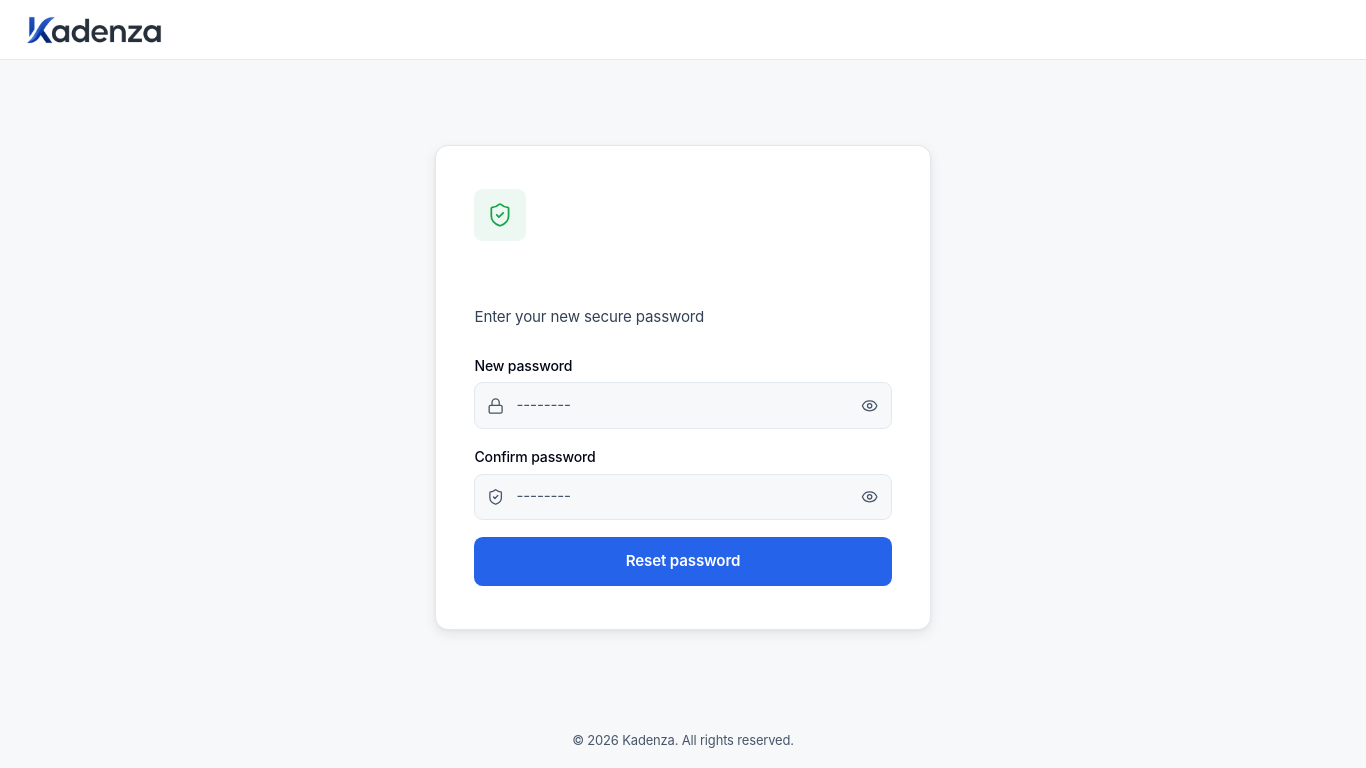
authentication pages › resets a password with a valid token
Step 1. Type "secret12" into the password field with placeholder "--------" below "New password" → (683, 406), box [474,382,892,429]
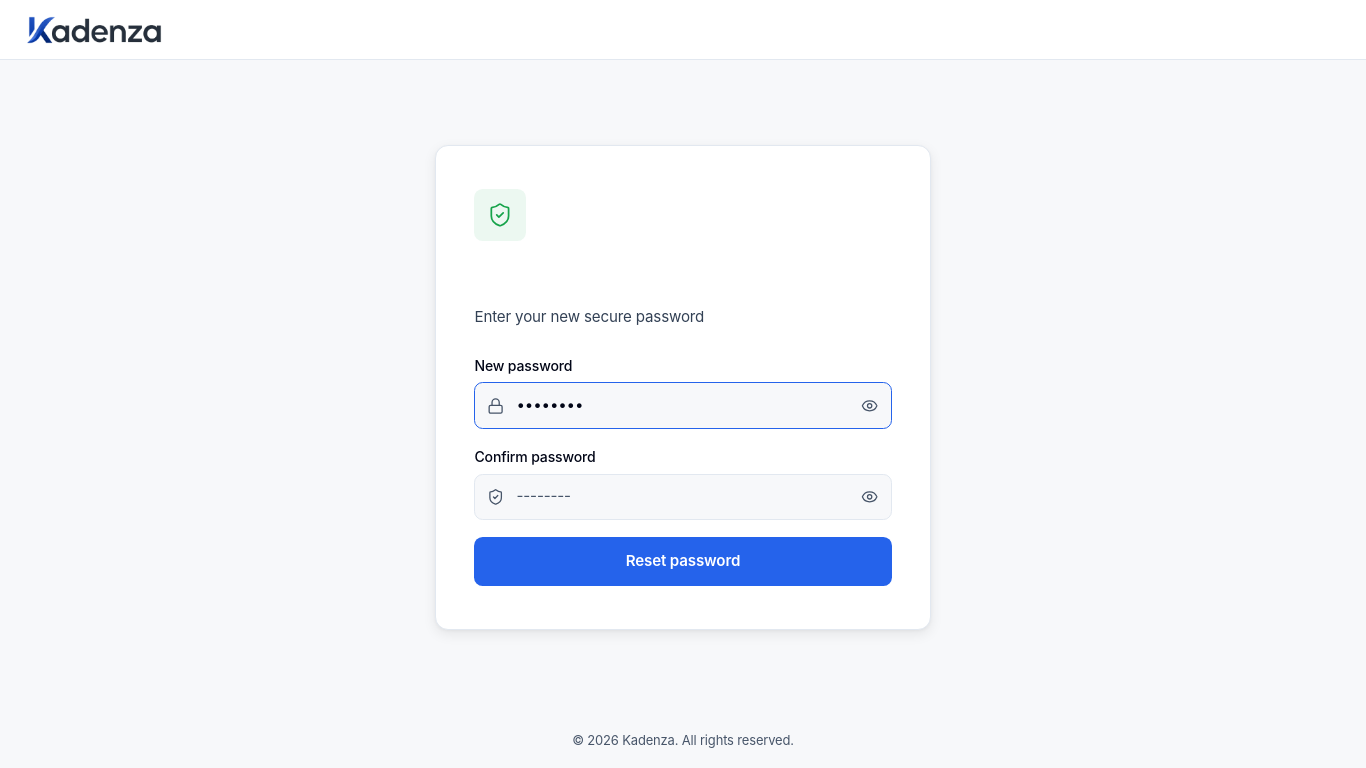
Step 2. Type "secret12" into the password field with placeholder "--------" → (683, 497), box [474,474,892,520]
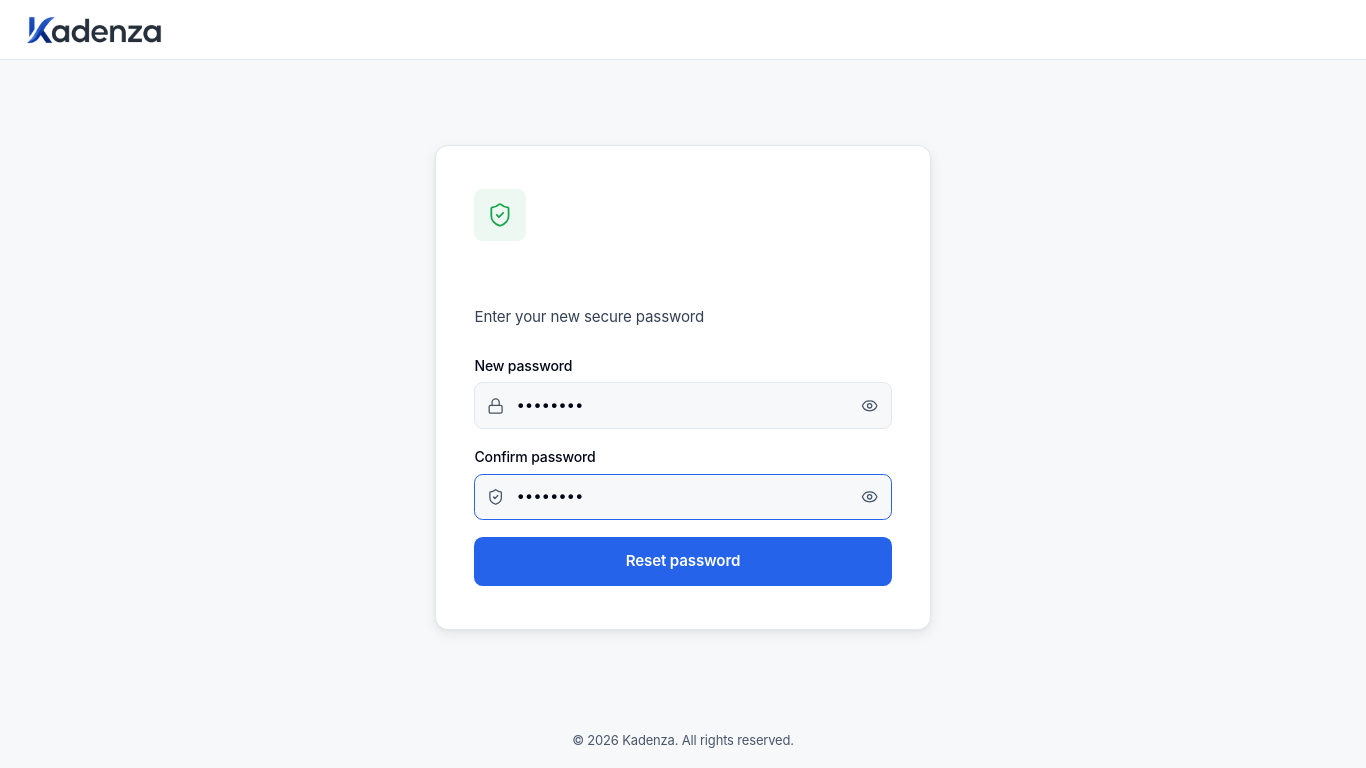
Step 3. Click the submit button → (683, 561), box [474,537,892,586]
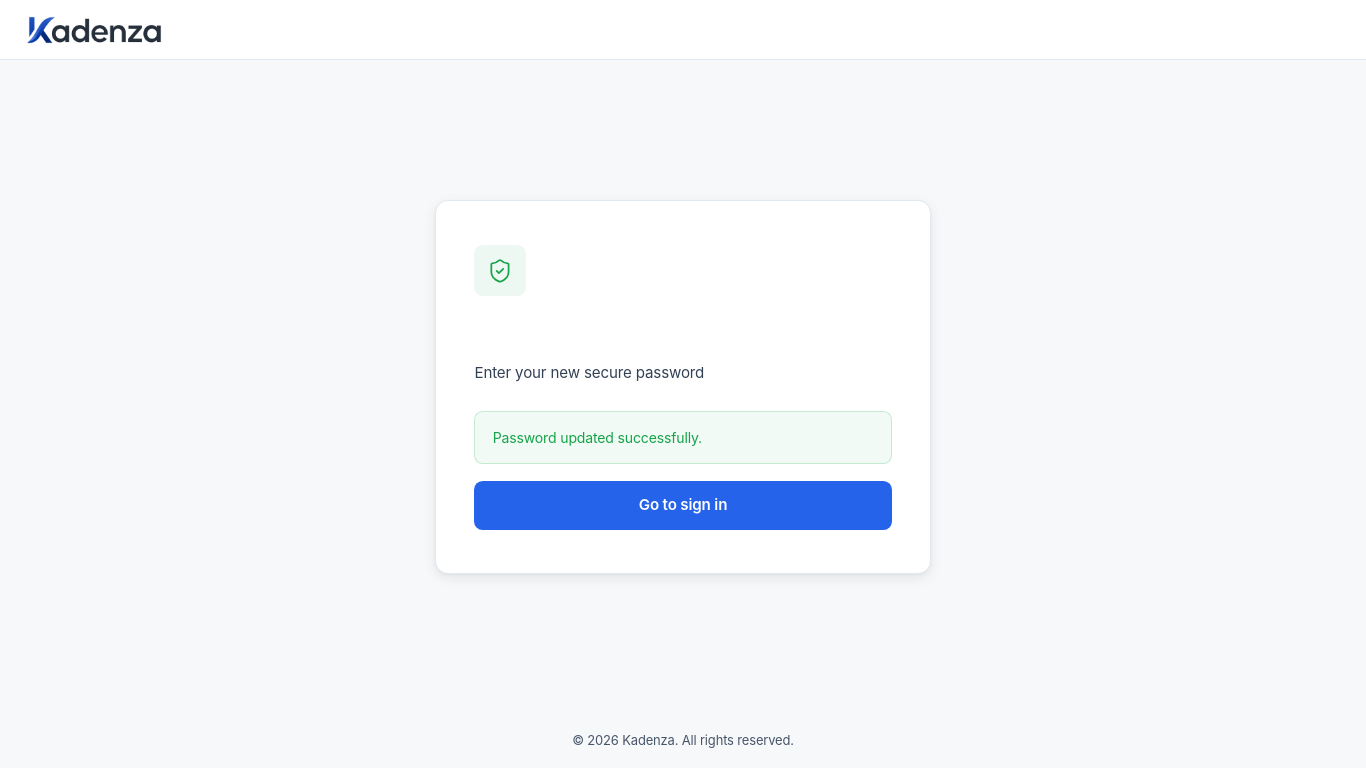
Result: the form is gone
